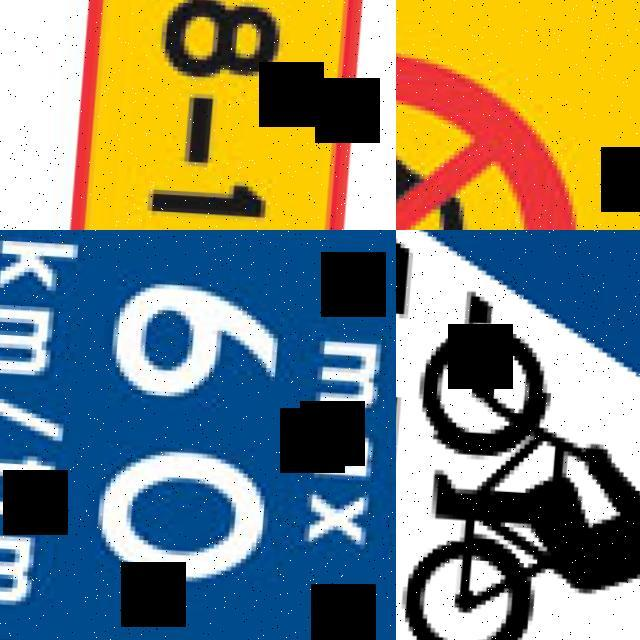181: (57, 0, 382, 230)
19: (396, 230, 640, 640)
No entry for motor vehicles: (396, 0, 640, 230)
speed limit-60: (0, 230, 396, 640)
